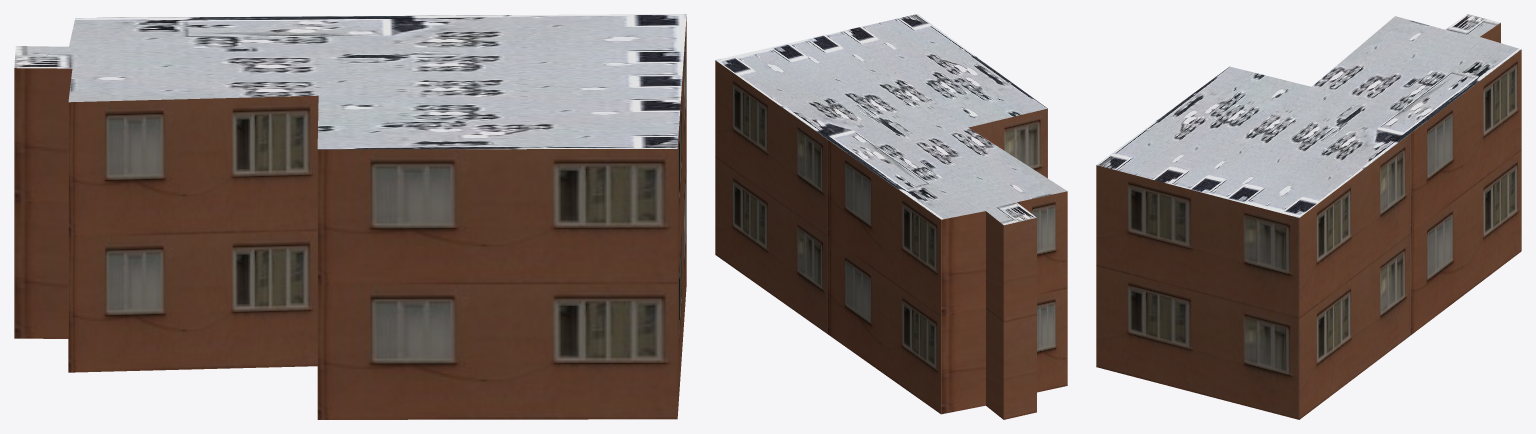
The model's file is ResTex__3643.fbx.
The picture shows the model from 3 angles, left to right: view 1: azimuth 30°, elevation 25°; view 2: azimuth 150°, elevation 25°; view 3: azimuth 270°, elevation 25°; orthographic projection. The views are drawn at different scales.
Parts seen in each view (by area): view 1: CityEngineMaterial_20_m, CityEngineMaterial_8_m; view 2: CityEngineMaterial_20_m, CityEngineMaterial_8_m; view 3: CityEngineMaterial_20_m, CityEngineMaterial_8_m.
Boxes of the visible parts, x1,y1,x2,y2 form: CityEngineMaterial_20_m: (14,17,686,419); CityEngineMaterial_8_m: (14,14,686,149); CityEngineMaterial_20_m: (715,60,1067,419); CityEngineMaterial_8_m: (715,14,1067,225); CityEngineMaterial_20_m: (1096,23,1521,419); CityEngineMaterial_8_m: (1096,14,1521,217).
Size of the model in its own units: 13 by 6 by 11.45.
Materials: 2 (2 with a texture image).
